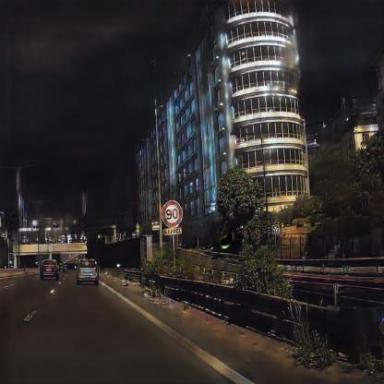Speed_limit_90: (162, 201, 182, 228)
